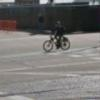bicycles: (43, 32, 71, 53)
